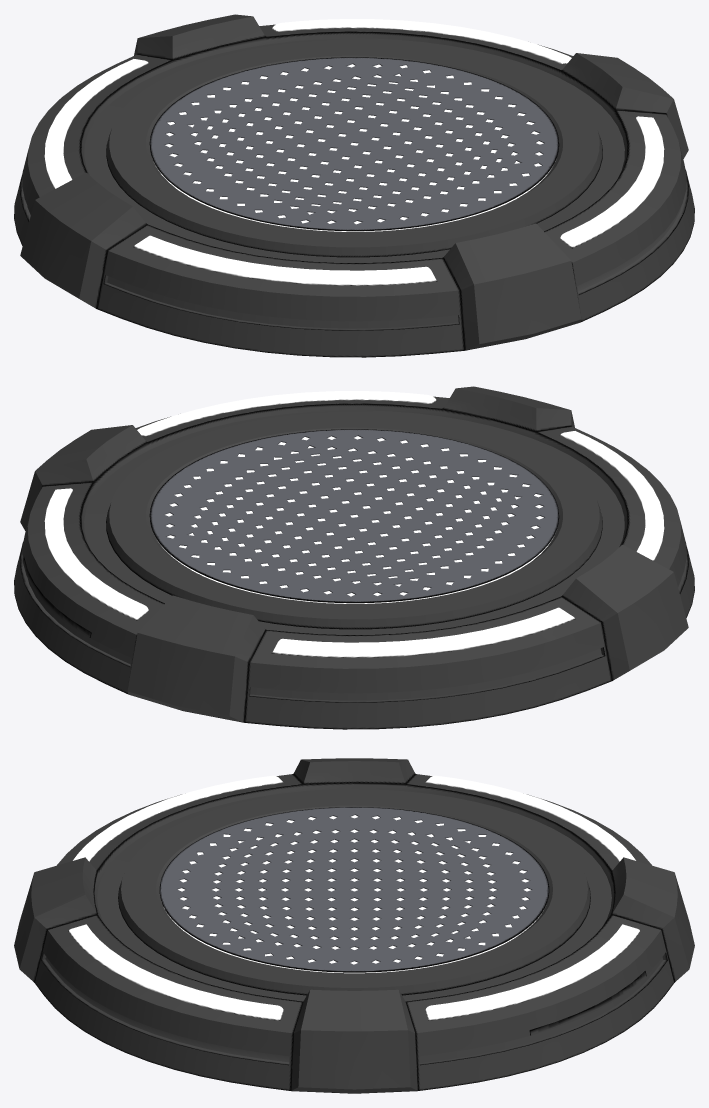
The model's file is pedestal.glb.
3 renders of one model, top to bottom at view 1: azimuth 30°, elevation 25°; view 2: azimuth 150°, elevation 25°; view 3: azimuth 270°, elevation 25°, orthographic. The views are drawn at different scales.
Visible parts, largest first — view 1: tech_pedestal; view 2: tech_pedestal; view 3: tech_pedestal.
Boxes of the visible parts, bbox=[...] form: tech_pedestal: bbox=[14, 14, 694, 357]; tech_pedestal: bbox=[14, 386, 694, 729]; tech_pedestal: bbox=[14, 758, 694, 1093].
Bounding box in the file's own units: 24.79 × 3.21 × 24.79.
Materials: 1 (1 with a texture image).
